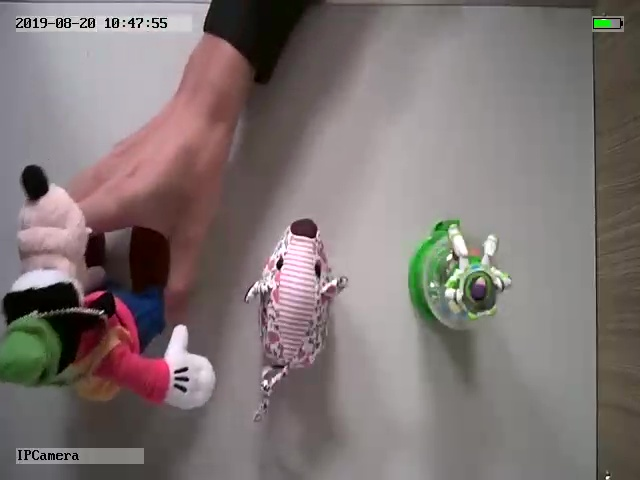buzz: (407, 218, 512, 335)
goofy: (1, 164, 218, 411)
pig: (243, 216, 351, 425)
